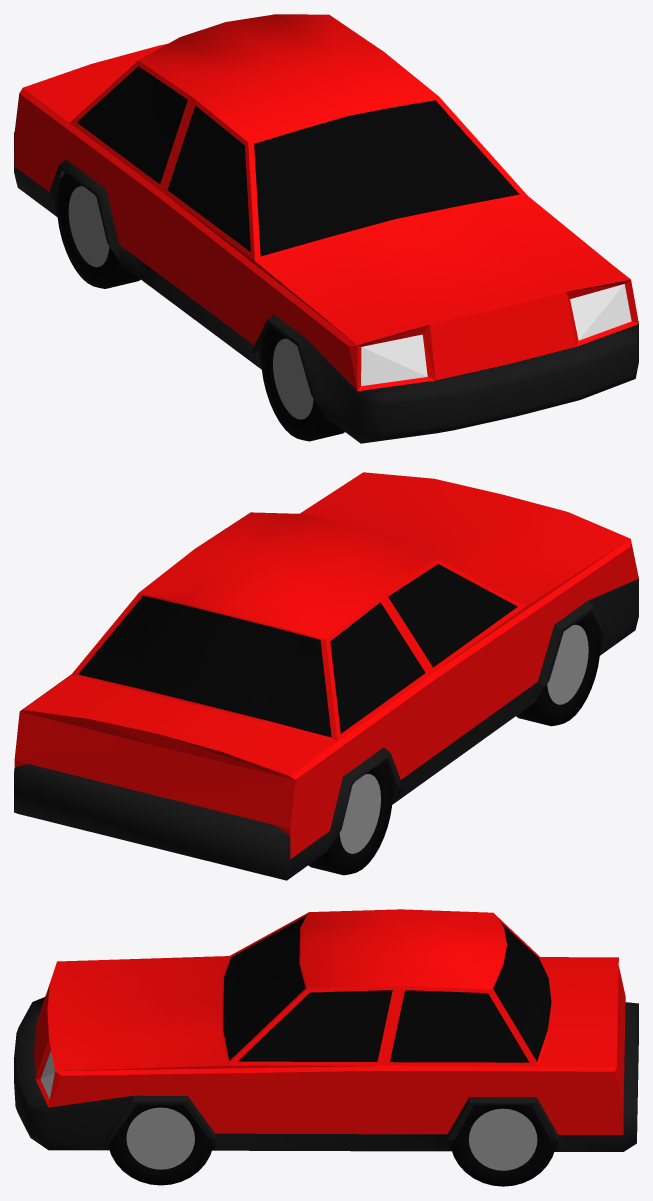
File: car.obj
3 renders of one model, top to bottom at view 1: azimuth 30°, elevation 25°; view 2: azimuth 150°, elevation 25°; view 3: azimuth 270°, elevation 25°, orthographic. The views are drawn at different scales.
Parts seen in each view (by area): view 1: Car; view 2: Car; view 3: Car.
Boxes of the visible parts, x1,y1,x2,y2 form: Car: (14, 14, 638, 443); Car: (14, 472, 638, 880); Car: (14, 909, 638, 1186).
Bounding box in the file's own units: 2.13 × 1.59 × 4.67.
